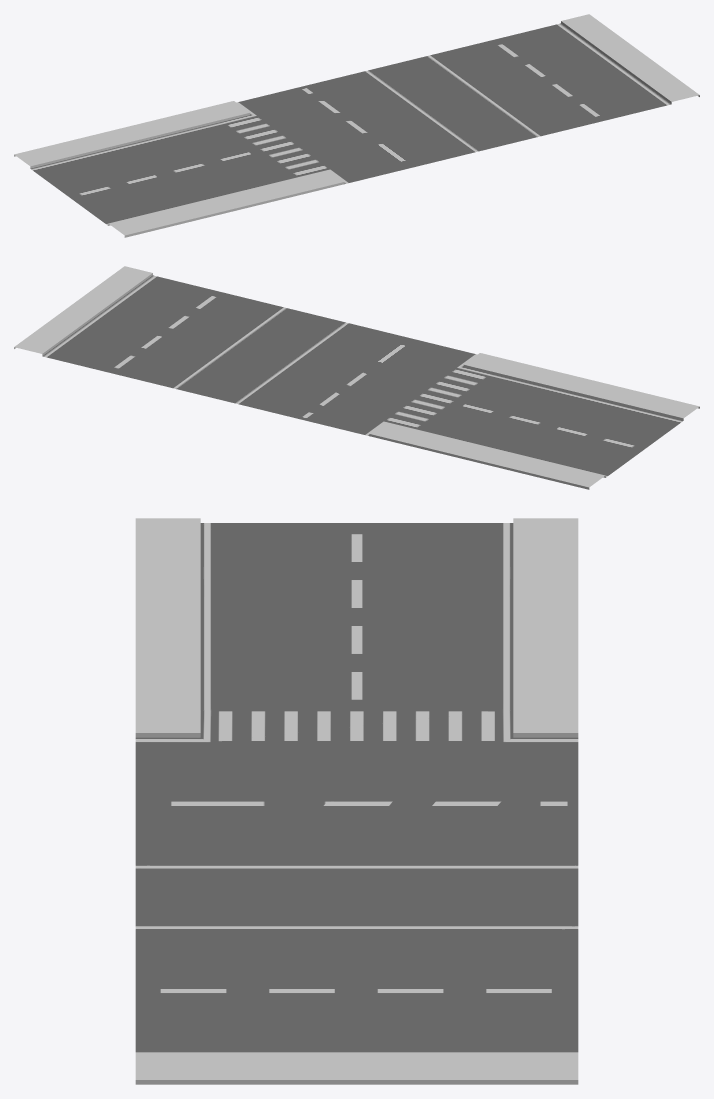
The model's file is DoubleWay Turn01.fbx.
3 renders of one model, top to bottom at view 1: azimuth 30°, elevation 25°; view 2: azimuth 150°, elevation 25°; view 3: azimuth 270°, elevation 25°, orthographic. The views are drawn at different scales.
Parts seen in each view (by area): view 1: DoubleWay Turn01; view 2: DoubleWay Turn01; view 3: DoubleWay Turn01.
Boxes of the visible parts, x1,y1,x2,y2 form: DoubleWay Turn01: [14, 14, 699, 237]; DoubleWay Turn01: [14, 266, 699, 489]; DoubleWay Turn01: [135, 518, 578, 1084].
Bounding box in the file's own units: 5100 × 20 × 1700.
